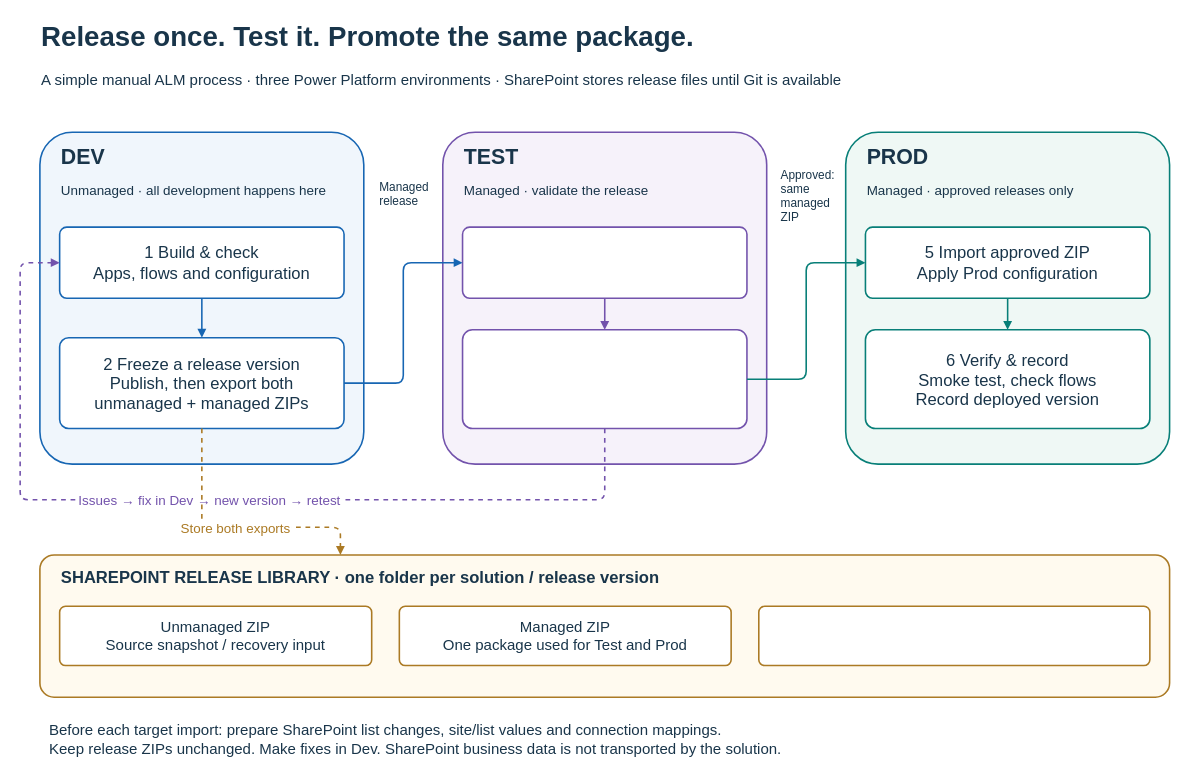
This 1191x778 diagram has some shape labels left out. The centre of each missing label's shape, as x and y in pixels:
"3 Import managed ZIP Apply Test configuration" belongs at point (604, 262).
"4 Test & approve App + flows + user permissions Business owner signs off" belongs at point (604, 379).
"Release notes + deployment record Settings, SharePoint changes and approval" belongs at point (954, 635).
